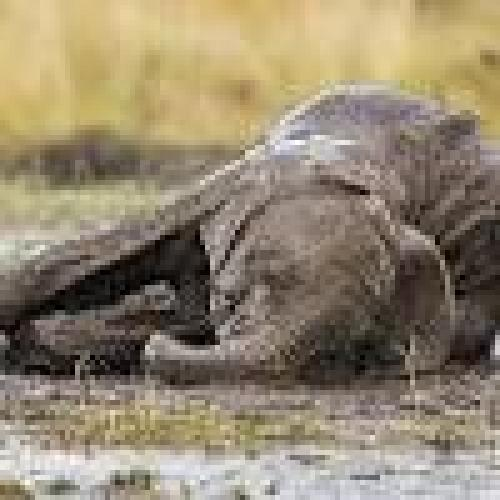asian_elephant-endangered: (0, 85, 500, 389)
